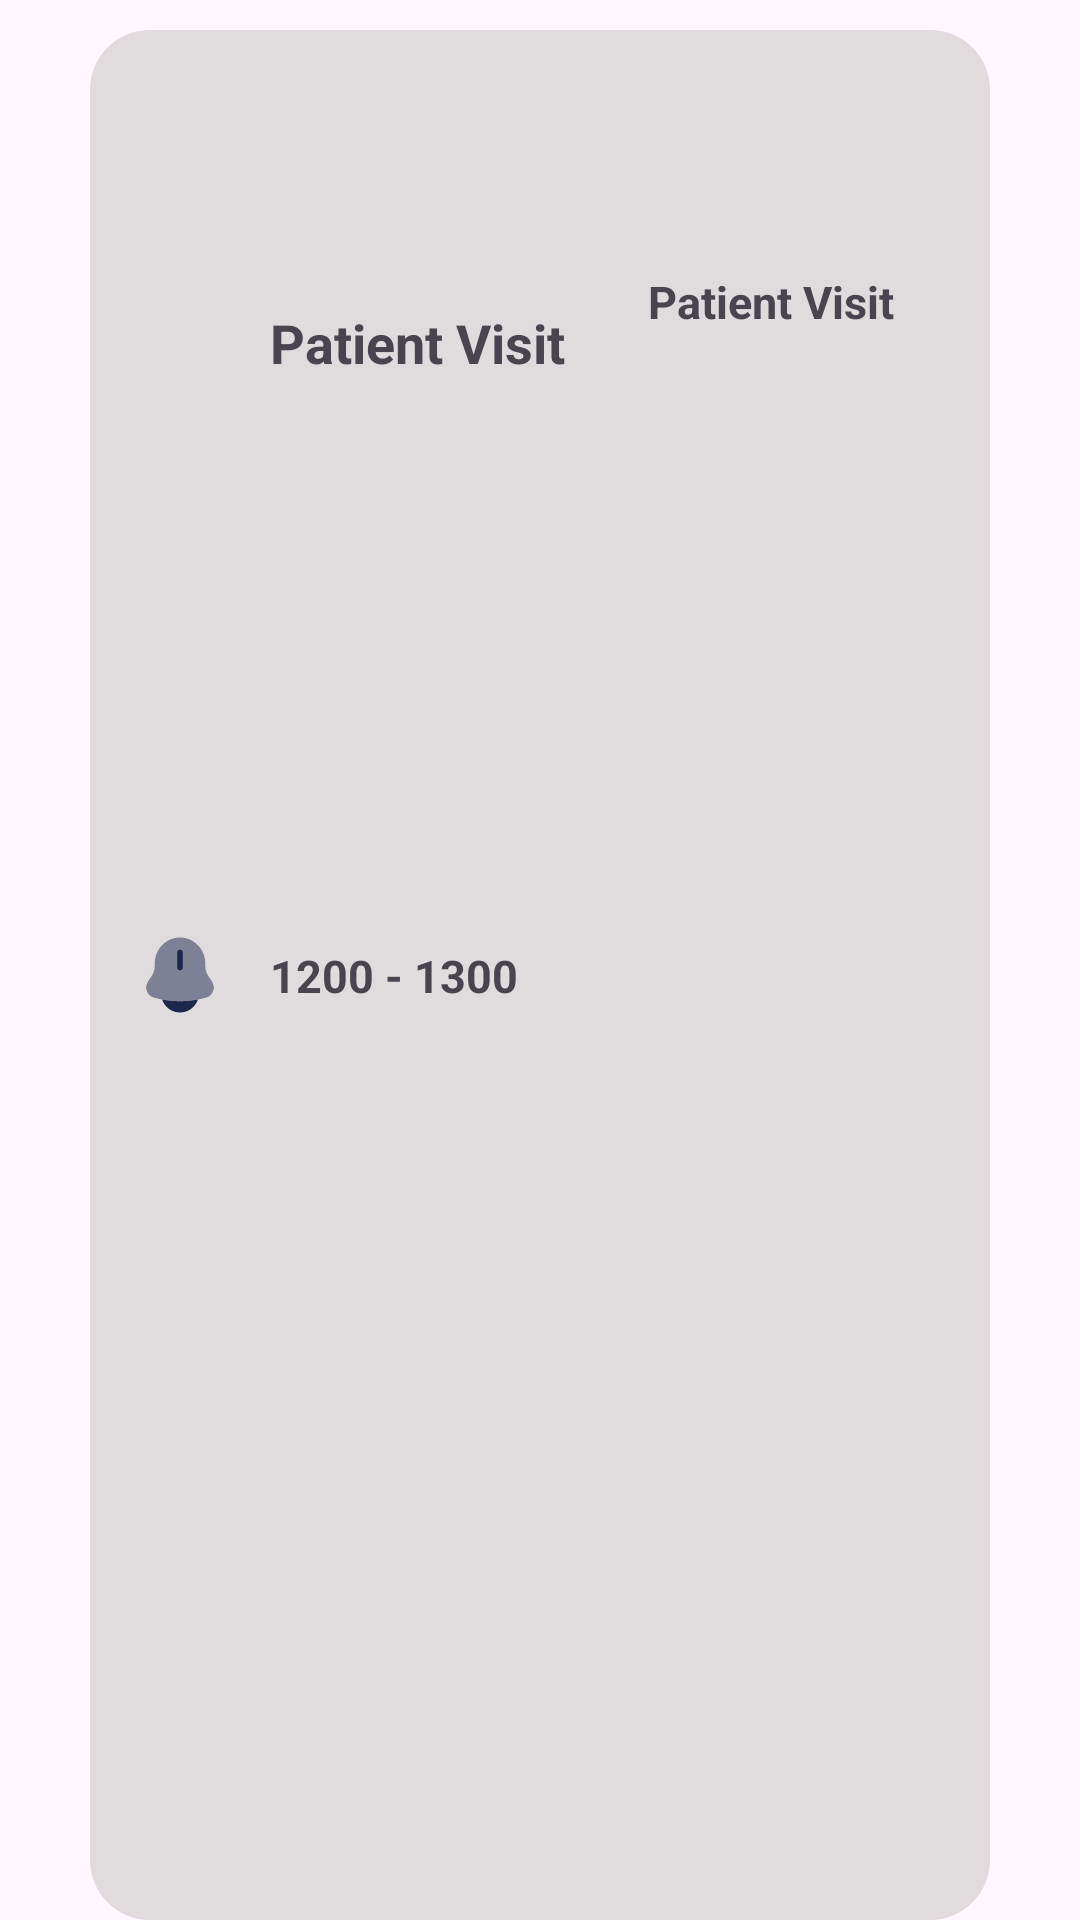

Icons on this 1080 × 1920 Android screen, each with the point to tap as (x,y):
bell bing: (180,975)
